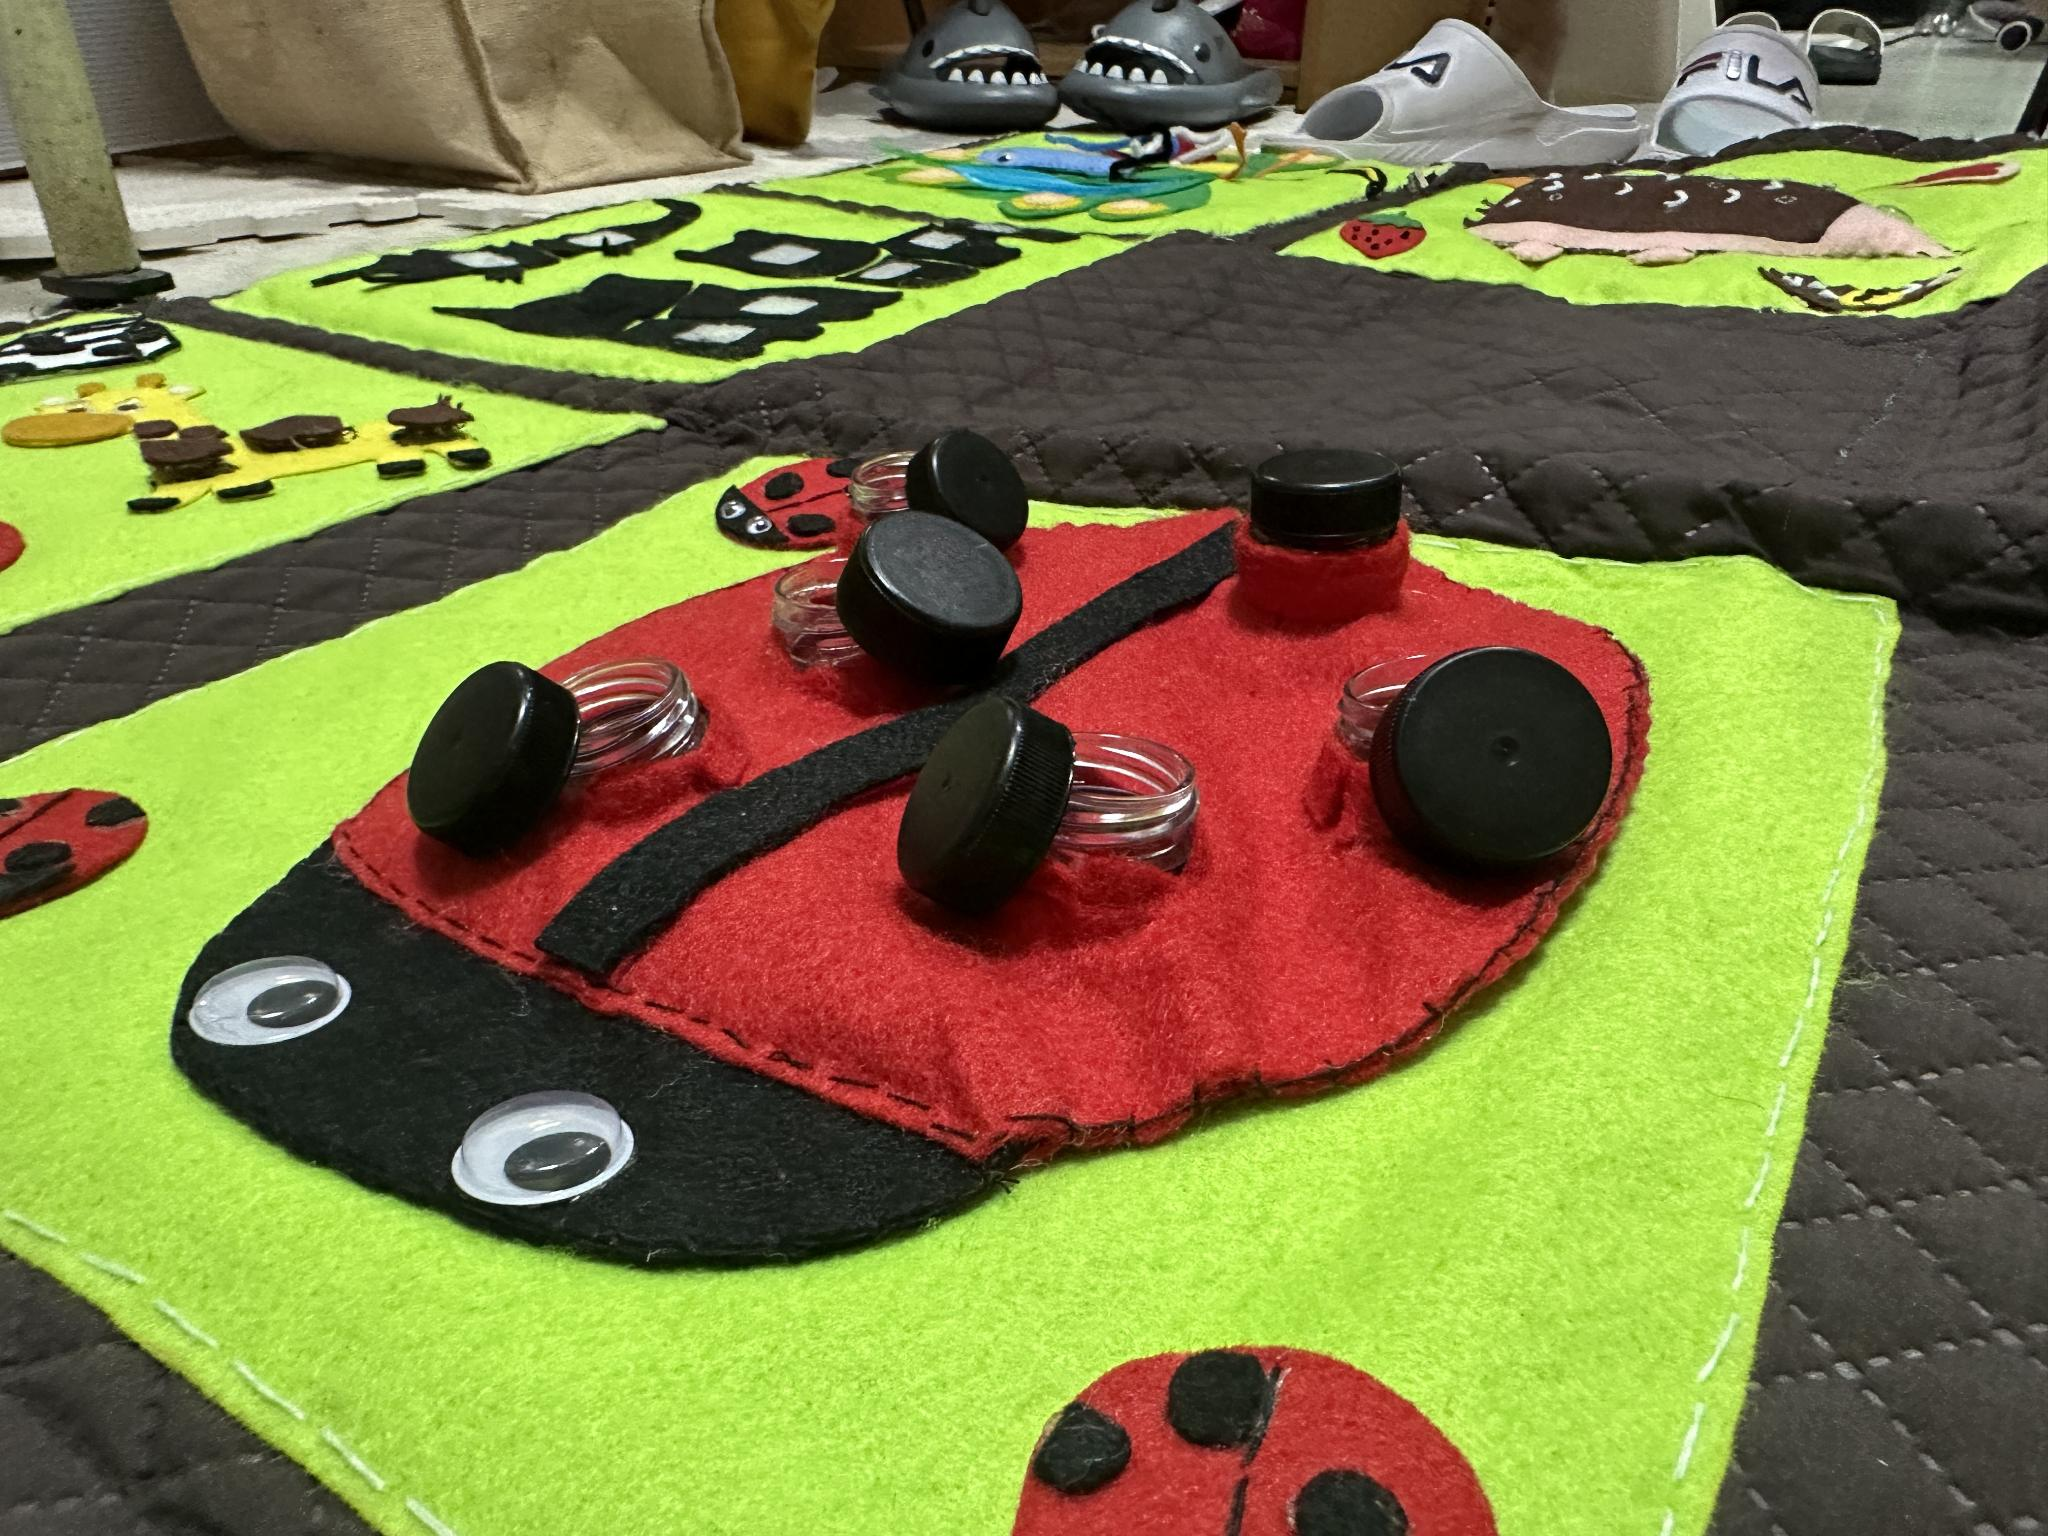cap_ng: (890, 689, 1230, 941), (1316, 645, 1640, 905), (402, 645, 747, 866), (760, 511, 1050, 699), (839, 424, 1056, 544)
cap_ok: (1227, 440, 1450, 632)
